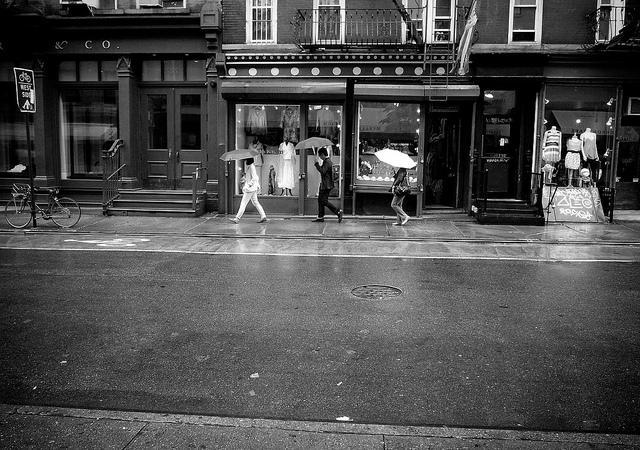bicycle: (4, 182, 82, 228)
